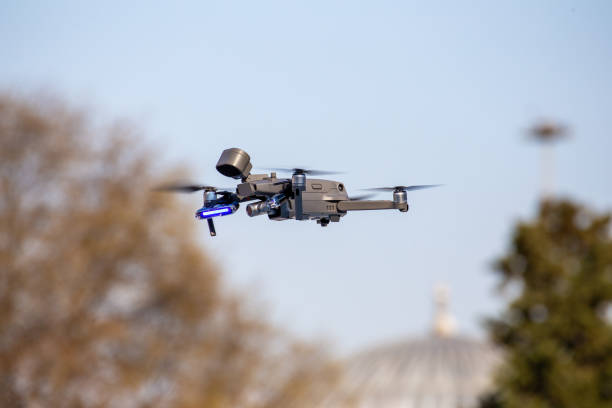Drone: (145, 145, 448, 238)
